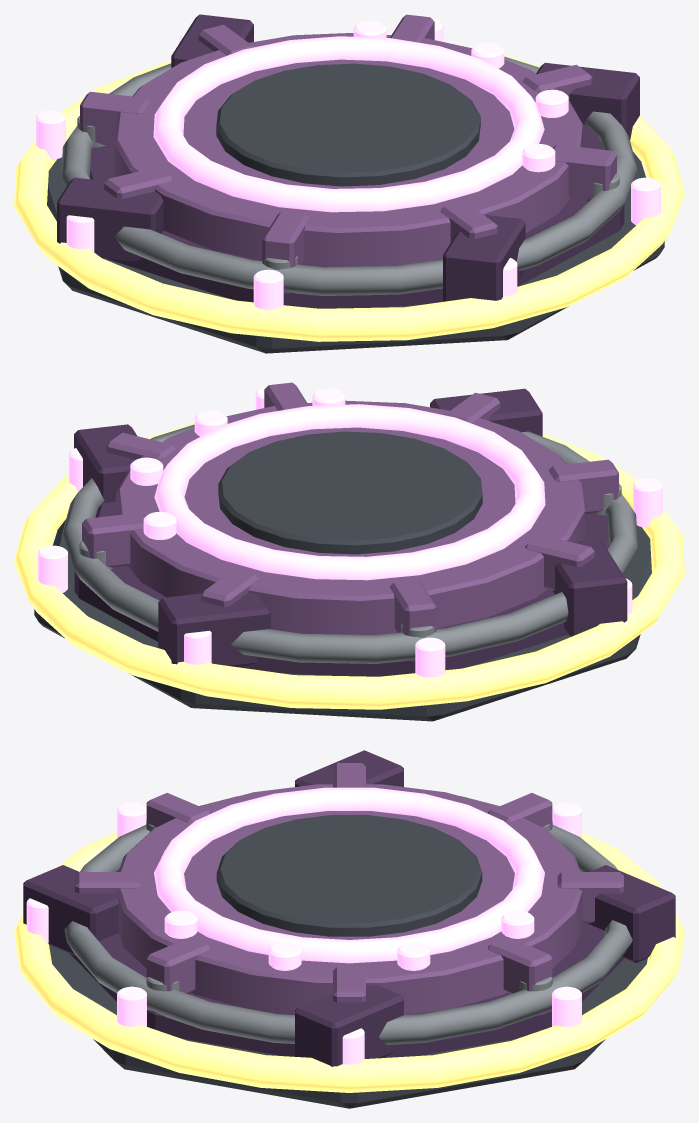
The model's file is void_base_l4.glb.
3 renders of one model, top to bottom at view 1: azimuth 30°, elevation 25°; view 2: azimuth 150°, elevation 25°; view 3: azimuth 270°, elevation 25°, orthographic.
Parts seen in each view (by area): view 1: Cylinder.002, Torus.002, Cylinder.003, Torus.001, Torus, Cylinder, Cylinder.001, Cube.010, Cube.011, Cube.008, Cube.007, Cube.003 (+15 smaller); view 2: Cylinder.002, Torus.002, Cylinder.003, Torus.001, Torus, Cylinder, Cylinder.001, Cube.009, Cube.010, Cube.008, Cube.001, Cube.011 (+16 smaller); view 3: Cylinder.002, Torus.002, Cylinder.003, Torus.001, Torus, Cylinder, Cylinder.001, Cube.008, Cube.011, Cube.009, Cube.001, Cube.007 (+17 smaller).
Boxes of the visible parts, box(x1,y1,x2,y2) form: Cylinder.002: box(114, 33, 582, 267); Torus.002: box(14, 55, 684, 341); Cylinder.003: box(216, 63, 480, 186); Torus.001: box(153, 36, 544, 212); Torus: box(61, 56, 637, 295); Cylinder: box(47, 152, 664, 353); Cylinder.001: box(90, 124, 624, 308); Cube.010: box(57, 177, 163, 261); Cube.011: box(443, 215, 525, 301); Cube.008: box(536, 62, 639, 139); Cube.007: box(553, 144, 616, 199); Cube.003: box(80, 91, 150, 146); Cylinder.002: box(116, 400, 584, 634); Torus.002: box(14, 423, 684, 709); Cylinder.003: box(218, 431, 482, 554); Torus.001: box(154, 404, 545, 580); Torus: box(61, 424, 637, 663); Cylinder: box(34, 519, 651, 721); Cylinder.001: box(74, 501, 608, 676); Cube.009: box(158, 592, 270, 666); Cube.010: box(553, 539, 627, 636); Cube.008: box(74, 424, 137, 502); Cube.001: box(82, 512, 145, 567); Cube.011: box(430, 388, 542, 436); Cylinder.002: box(116, 784, 583, 1015); Torus.002: box(14, 832, 684, 1092); Cylinder.003: box(216, 815, 482, 936); Torus.001: box(154, 787, 544, 963); Torus: box(64, 796, 632, 1044); Cylinder: box(49, 945, 647, 1108); Cylinder.001: box(69, 923, 624, 1057); Cube.008: box(295, 985, 403, 1066); Cube.011: box(23, 865, 118, 956); Cube.009: box(588, 865, 675, 962); Cube.001: box(488, 937, 552, 993); Cube.007: box(146, 937, 210, 993).
Size of the model in its own units: 2.22 by 0.4 by 2.22.
